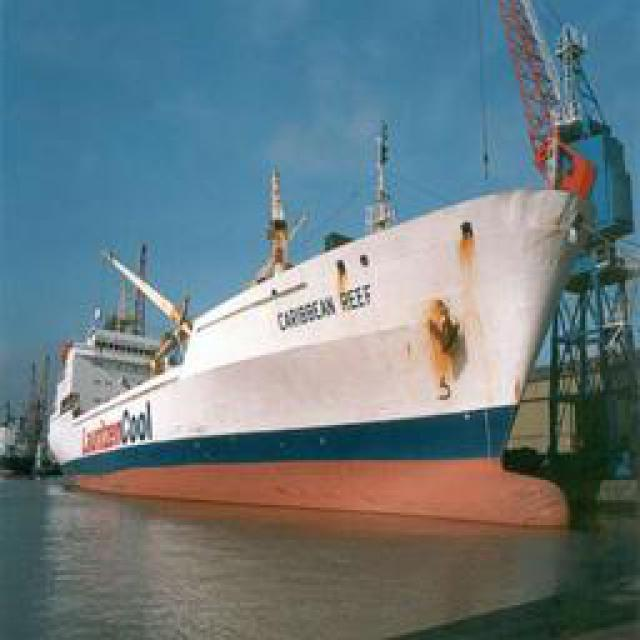Ship: (46, 170, 596, 503)
